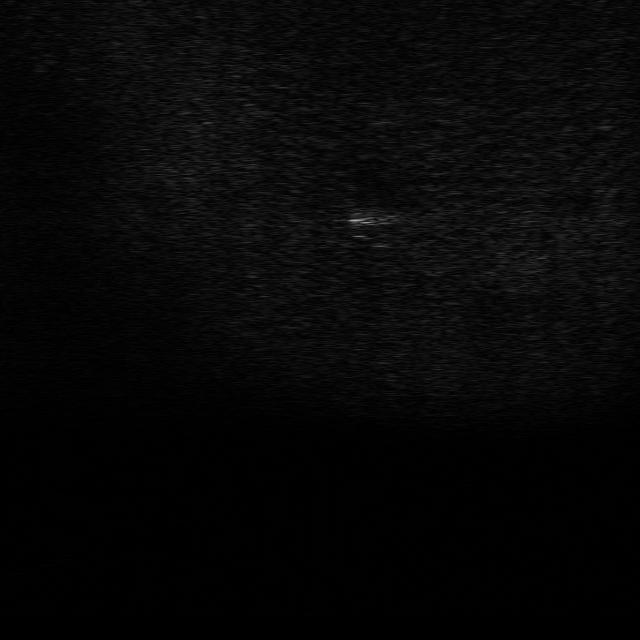plane: (344, 206, 408, 228)
